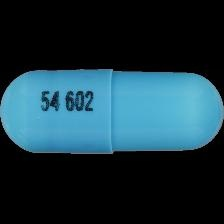0054-0109: (0, 0, 224, 224)
